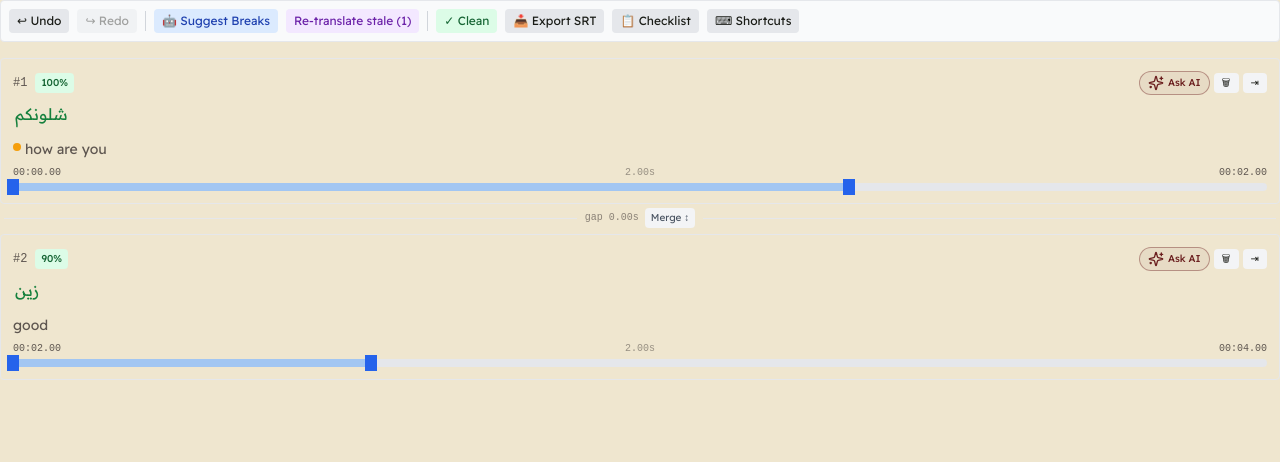
it: keyboard shortcuts › undoes and redoes an edit
The width and height of the screenshot is (1280, 462).
Earlier steps of the test are not shown.
Expected: the button "شلونكم" is shown, [13,104,70,124]
Press z
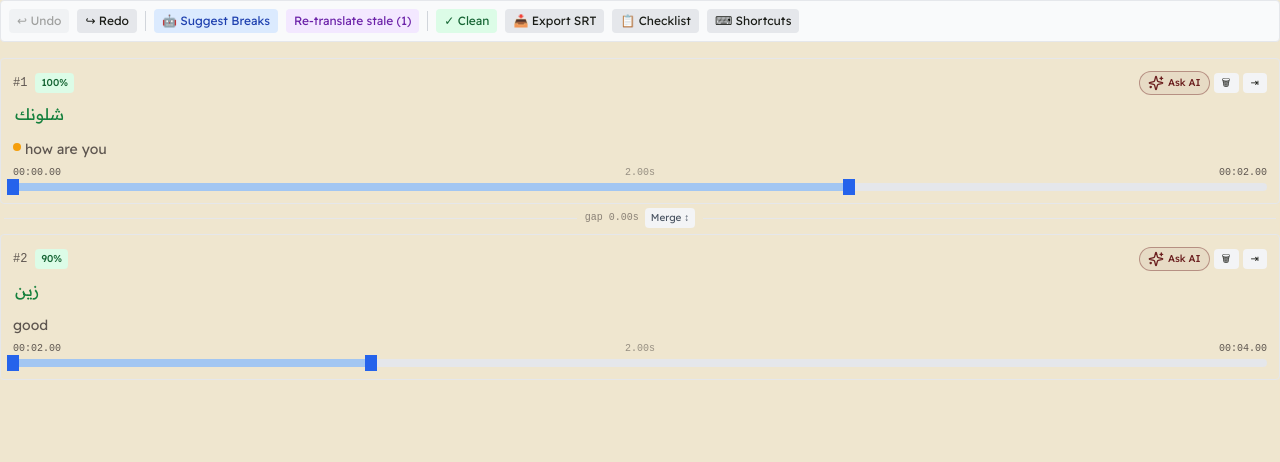
Click the button "شلونك": [40, 114] box [13,104,66,124]
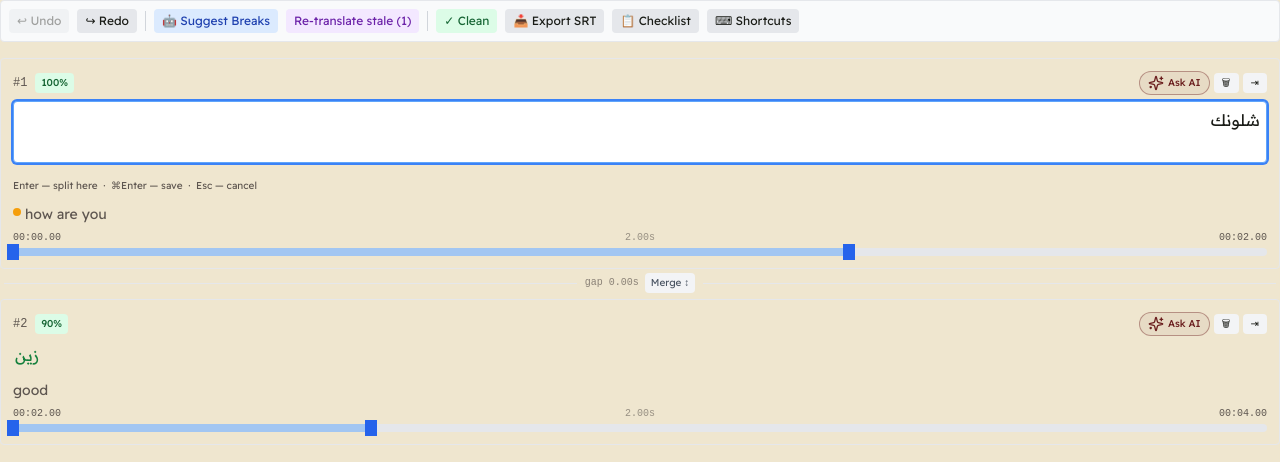
Press Escape in the text box, box [13,101,1267,163]
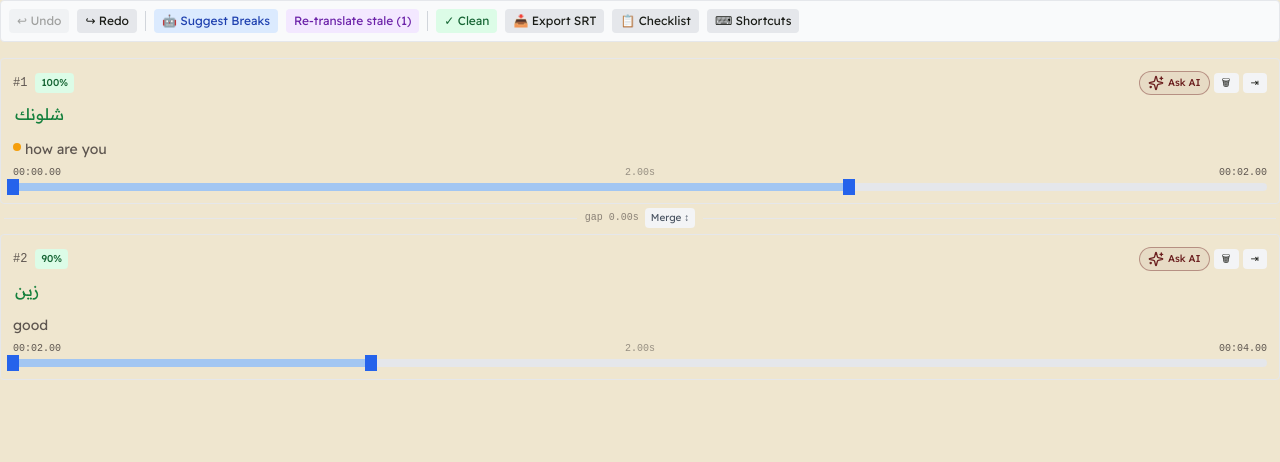
Expected: the button "شلونك" is shown, [13,104,66,124]
Press z
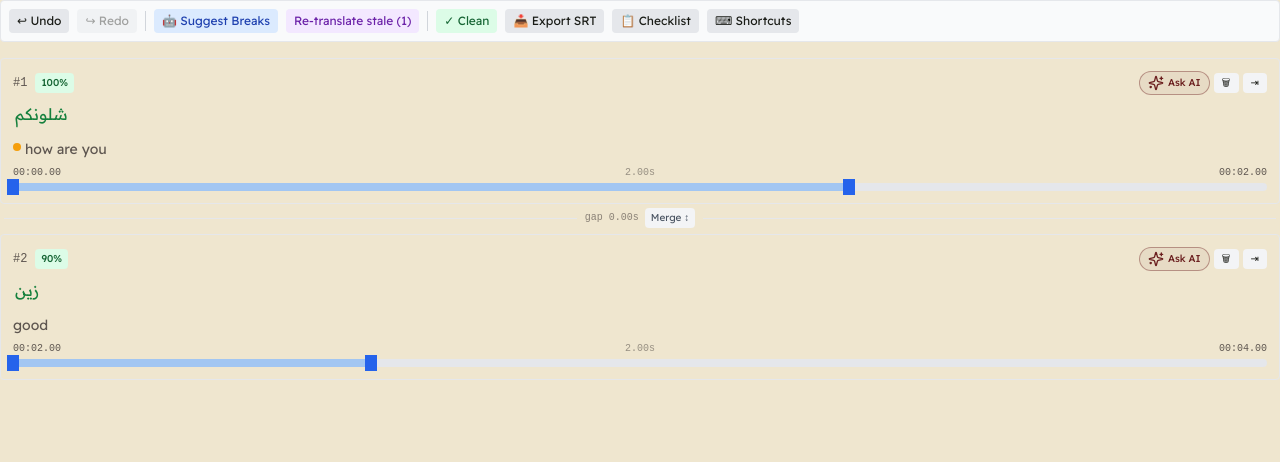
Click the button "شلونكم": [41, 114] box [13,104,70,124]
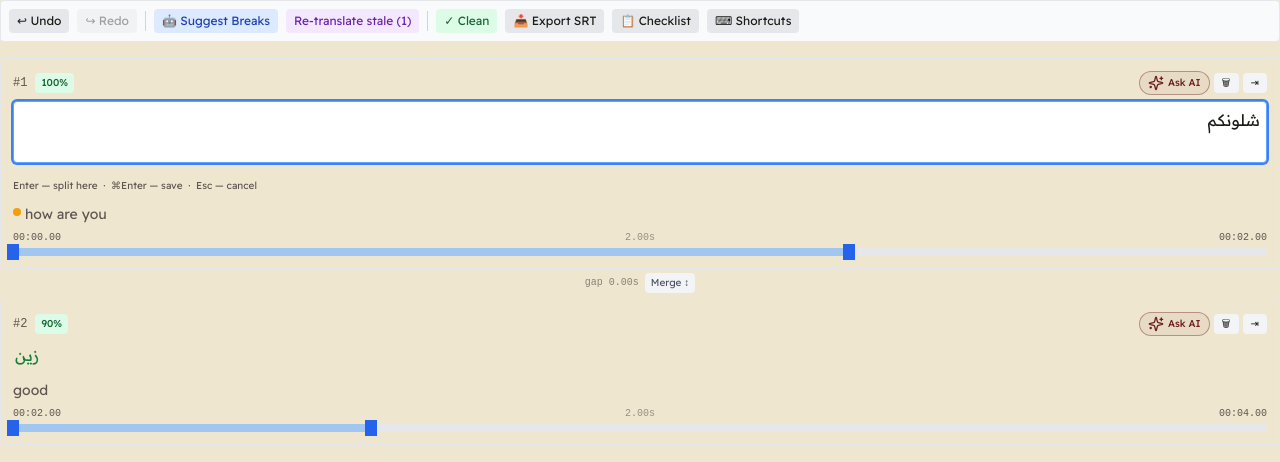
Press Escape in the text box, box [13,101,1267,163]
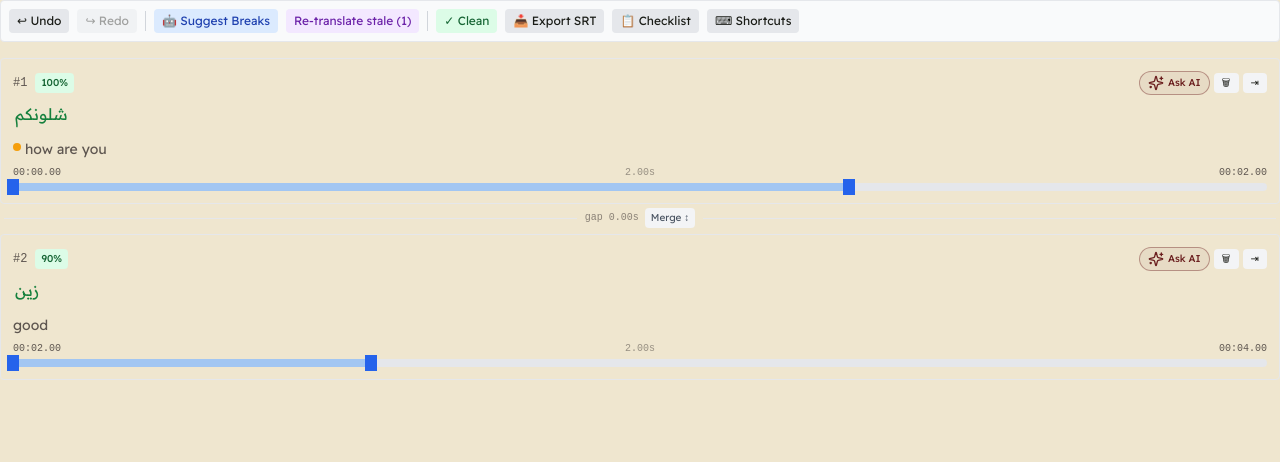
Expected: the button "شلونكم" is shown, [13,104,70,124]
